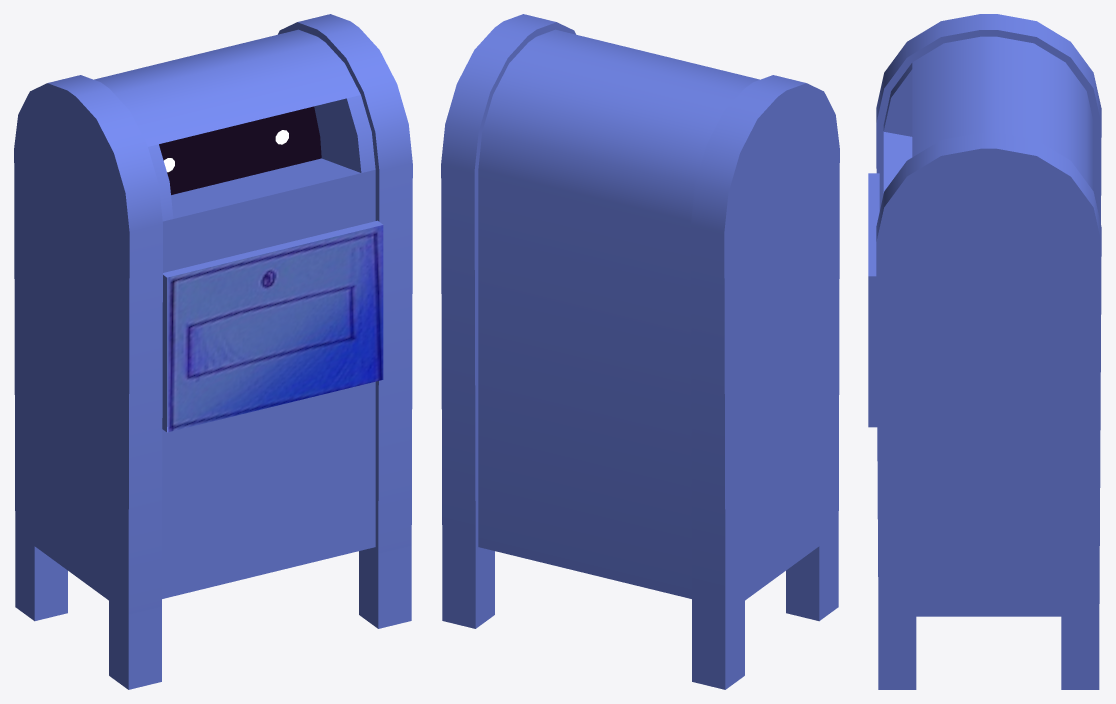
Rendered from mail.glb.
The picture shows the model from 3 angles, left to right: view 1: azimuth 30°, elevation 25°; view 2: azimuth 150°, elevation 25°; view 3: azimuth 270°, elevation 25°; orthographic projection. The views are drawn at different scales.
Parts seen in each view (by area): view 1: Cube, Cube.001; view 2: Cube; view 3: Cube, Cube.001.
Part boxes in pixels (x1=…): Cube: x1=14, y1=14, x2=412, y2=689; Cube.001: x1=162, y1=220, x2=383, y2=432; Cube: x1=441, y1=14, x2=839, y2=689; Cube: x1=876, y1=14, x2=1101, y2=689; Cube.001: x1=868, y1=173, x2=879, y2=427.
Bounding box in the file's own units: 3.03 × 5.67 × 2.22.
2 materials, 1 textured.
